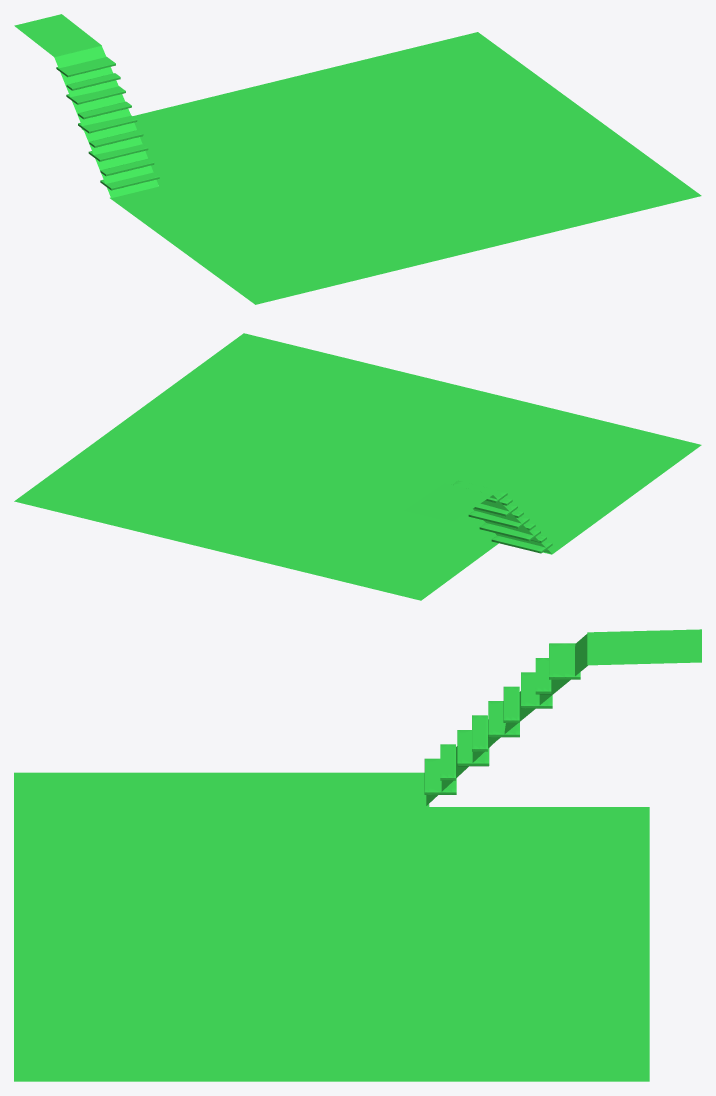
The model's file is Navmesh04.glb.
3 renders of one model, top to bottom at view 1: azimuth 30°, elevation 25°; view 2: azimuth 150°, elevation 25°; view 3: azimuth 270°, elevation 25°, orthographic. The views are drawn at different scales.
Visible parts, largest first — view 1: Plane, smooth_step_8_2, smooth_step_6, smooth_step_4; view 2: Plane, smooth_step_2, smooth_step_0, smooth_step_4; view 3: Plane, smooth_step_8_2, smooth_step_0, smooth_step_2, smooth_step_4, smooth_step_6.
Part boxes in pixels (x1=…): Plane: x1=14, y1=14, x2=701, y2=304; smooth_step_8_2: x1=56, y1=56, x2=115, y2=77; smooth_step_6: x1=66, y1=86, x2=125, y2=104; smooth_step_4: x1=78, y1=115, x2=137, y2=133; Plane: x1=14, y1=333, x2=701, y2=600; smooth_step_2: x1=479, y1=523, x2=540, y2=541; smooth_step_0: x1=491, y1=535, x2=552, y2=553; smooth_step_4: x1=468, y1=510, x2=529, y2=528; Plane: x1=14, y1=629, x2=701, y2=1081; smooth_step_8_2: x1=549, y1=643, x2=580, y2=679; smooth_step_0: x1=424, y1=758, x2=456, y2=794; smooth_step_2: x1=457, y1=730, x2=489, y2=766; smooth_step_4: x1=488, y1=701, x2=519, y2=737; smooth_step_6: x1=521, y1=672, x2=552, y2=708.
Bounding box in the file's own units: 13.81 × 3.02 × 12.99.
